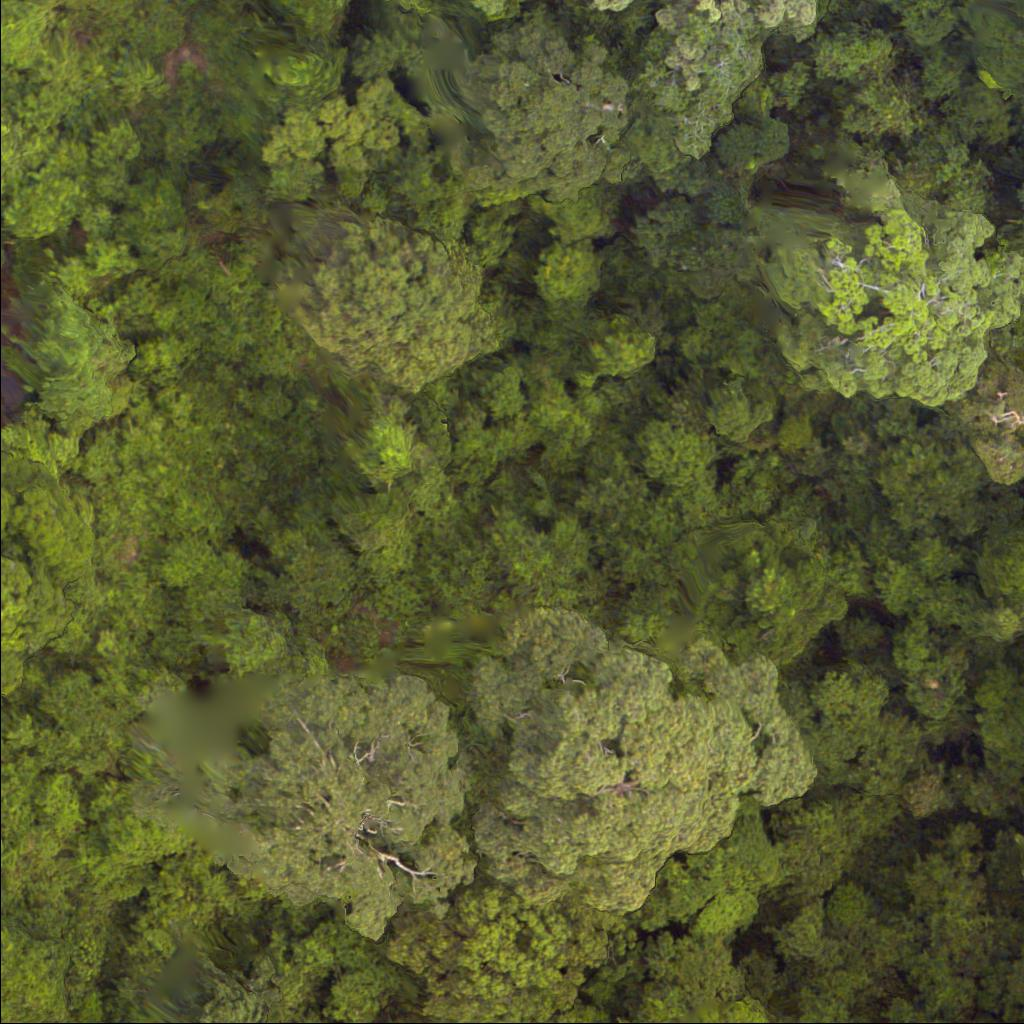crown: (449, 632, 838, 910), (122, 660, 480, 954), (758, 179, 1023, 404), (265, 213, 477, 387), (416, 20, 624, 183), (394, 888, 635, 1023), (194, 963, 299, 1023), (661, 980, 775, 1023), (997, 876, 1023, 938), (421, 0, 497, 13)
